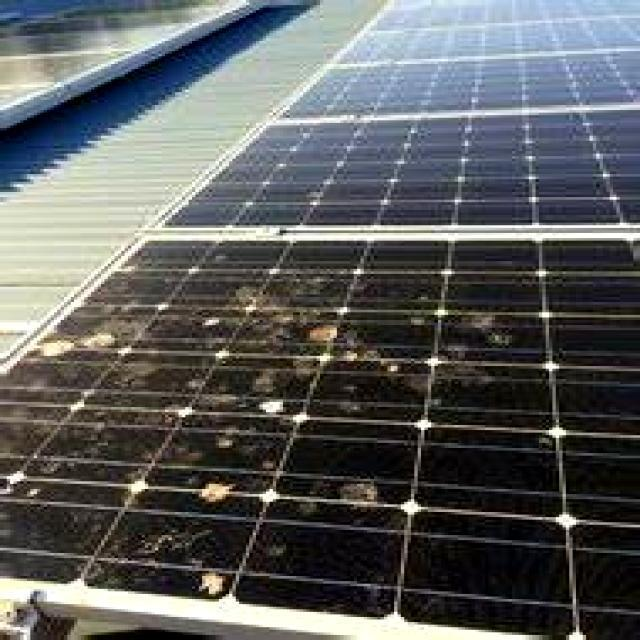soiled: (7, 233, 640, 640)
